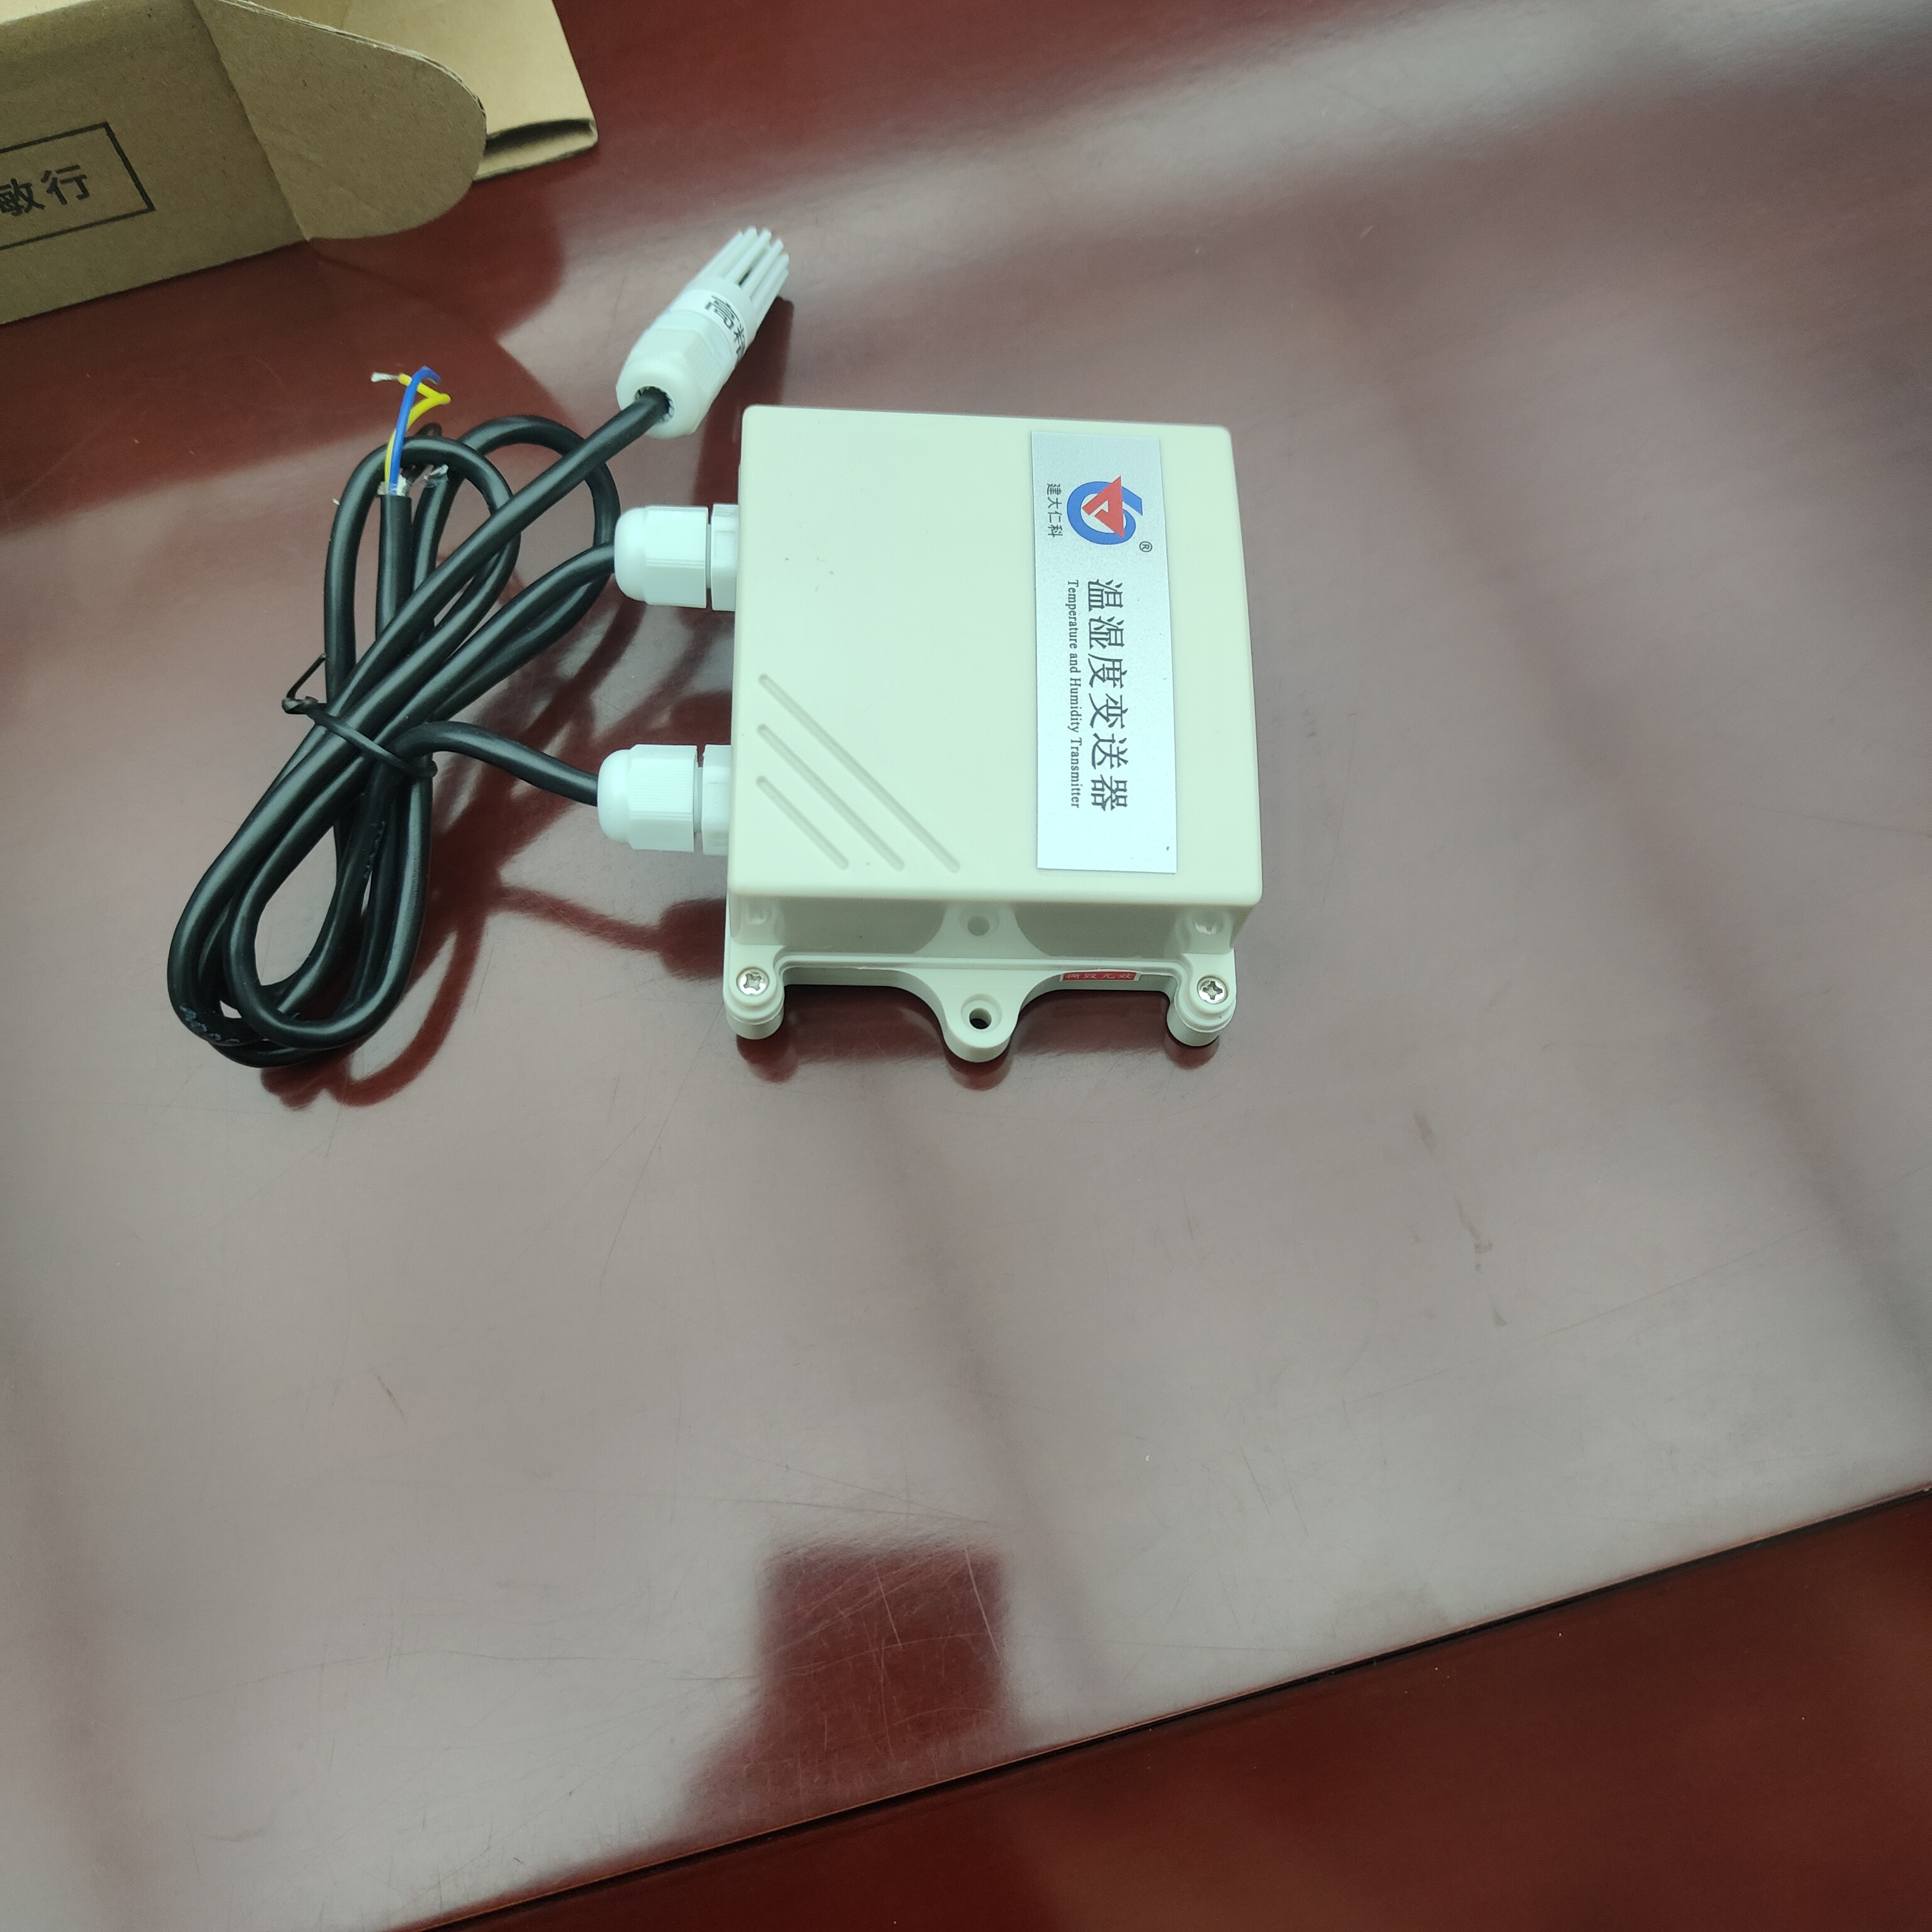wsdbsq: (655, 340, 1322, 1109)
